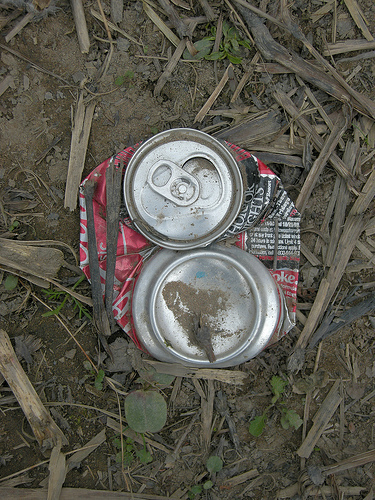litter: (79, 126, 302, 372)
